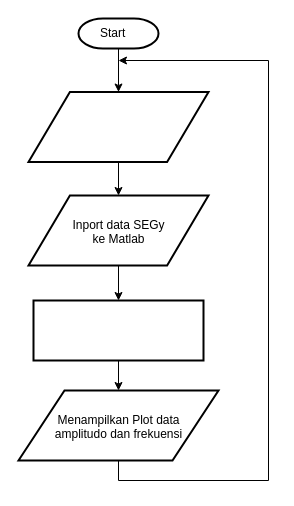
This 294x506 diagram has some shape labels left out. Here are the shapes that lost their labels. From the top down, the centre of each, then its label:
At point 118,126: "Mengambil data SEGy Sesmograf Lapangan".
At point 118,330: "Olah data mengunakan FFT (Fast Fourier Transfrom)".
